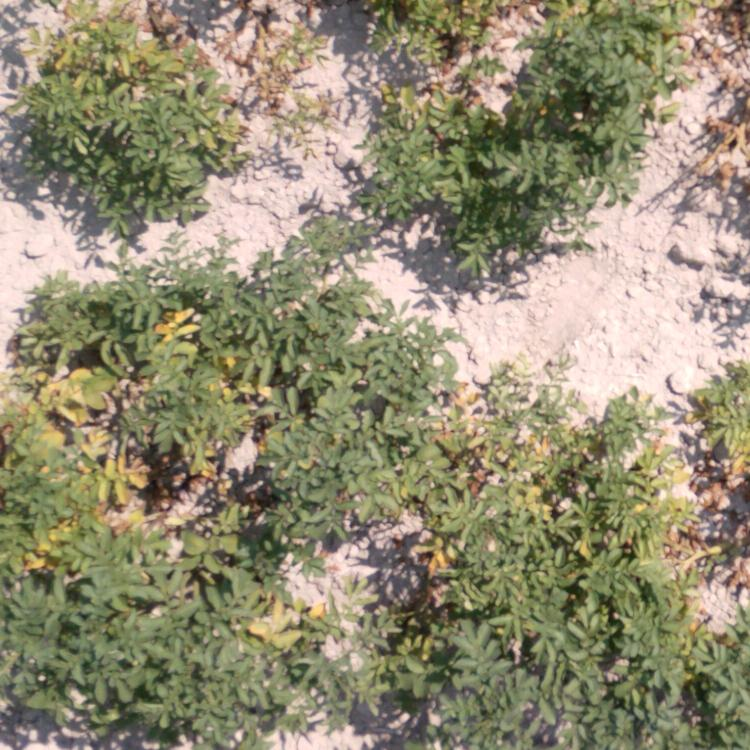healthy: (5, 595, 214, 740), (481, 65, 628, 236), (466, 585, 599, 745), (319, 283, 395, 442)
stressed: (406, 389, 678, 563), (26, 1, 254, 181), (149, 294, 307, 520), (1, 346, 136, 575), (630, 571, 747, 716), (239, 532, 332, 679), (361, 574, 441, 742), (372, 82, 485, 173), (549, 1, 708, 56), (682, 358, 745, 486), (358, 1, 521, 47)
